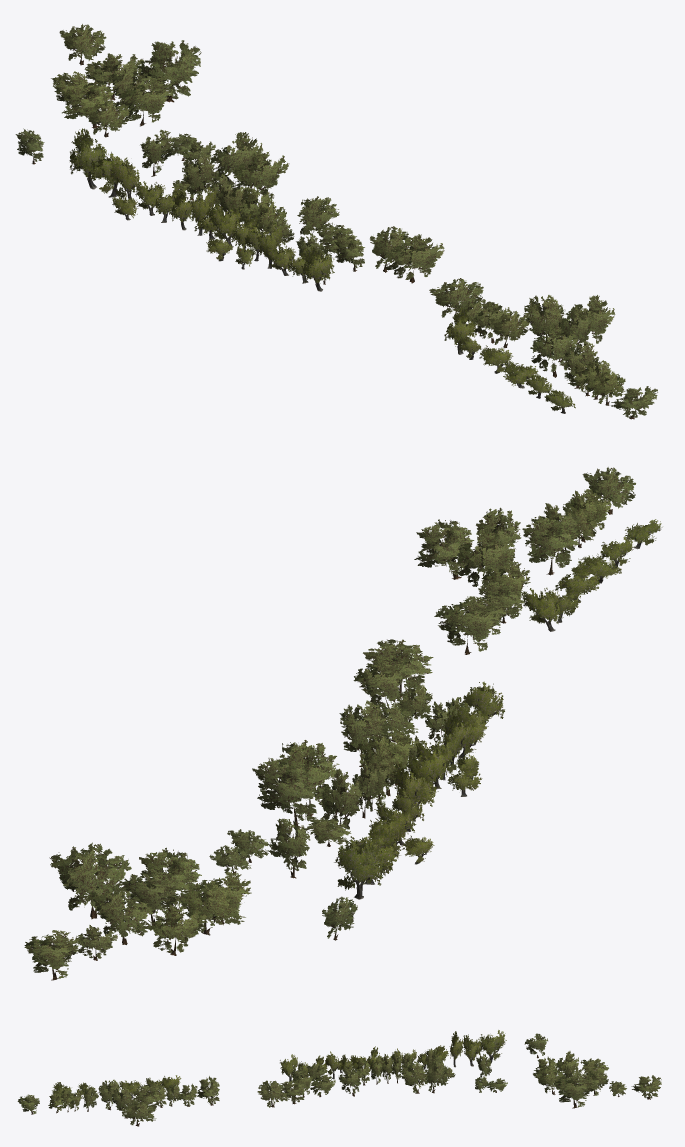
3 renders of one model, top to bottom at view 1: azimuth 30°, elevation 25°; view 2: azimuth 150°, elevation 25°; view 3: azimuth 270°, elevation 25°, orthographic. The views are drawn at different scales.
Parts seen in each view (by area): view 1: object 1, island_tree_01 Esplanade Drive bark, jacaranda_tree Esplanade Drive bark; view 2: object 1, jacaranda_tree Esplanade Drive bark, island_tree_01 Esplanade Drive bark; view 3: object 1, jacaranda_tree Esplanade Drive bark, island_tree_01 Esplanade Drive bark.
Part boxes in pixels (x1,y1,x2,y2): object 1: (15, 24, 657, 417); island_tree_01 Esplanade Drive bark: (73, 159, 569, 413); jacaranda_tree Esplanade Drive bark: (29, 53, 635, 419); object 1: (24, 467, 662, 978); jacaranda_tree Esplanade Drive bark: (47, 501, 612, 980); island_tree_01 Esplanade Drive bark: (345, 533, 650, 899); object 1: (17, 1030, 661, 1125); jacaranda_tree Esplanade Drive bark: (31, 1048, 650, 1126); island_tree_01 Esplanade Drive bark: (129, 1045, 500, 1098).
Bounding box in the file's own units: 86.7 × 17.23 × 286.
Materials: 3 (3 with a texture image).
